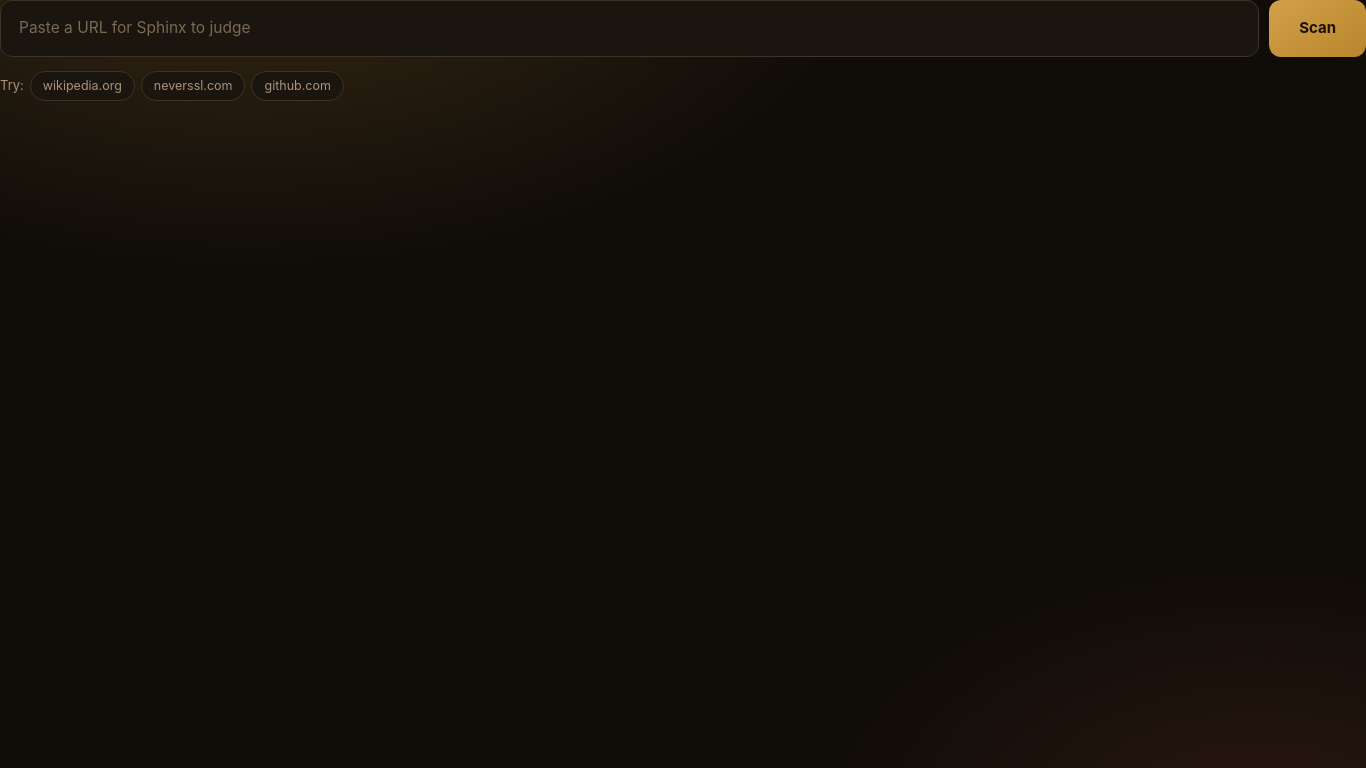
Test: Scanner › withholds a rating for an unreachable host but still shows the URL chip
In the field named "URL to scan": (630, 28) [0,0,1259,57], type "https://gone.example"
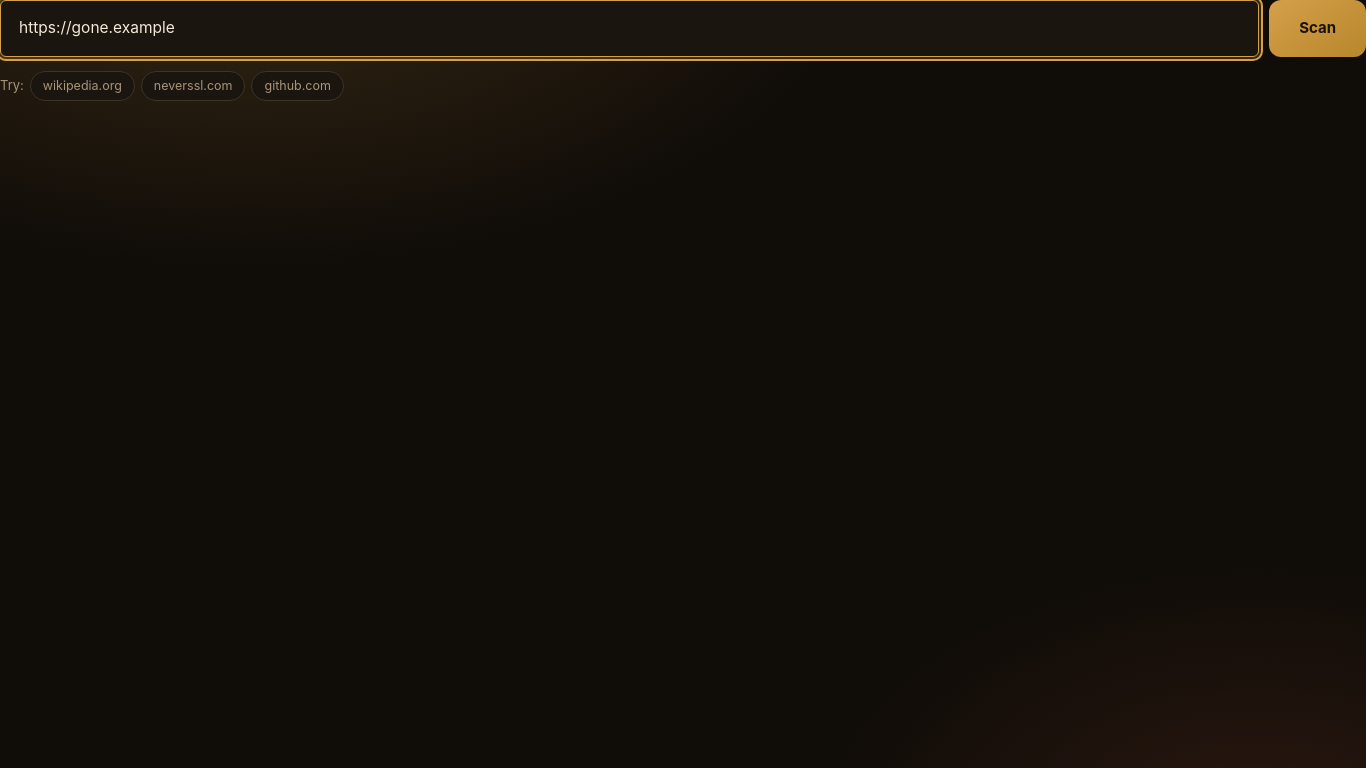
Click the button "Scan": (1318, 28) [1269,0,1365,57]
(page scrolled)
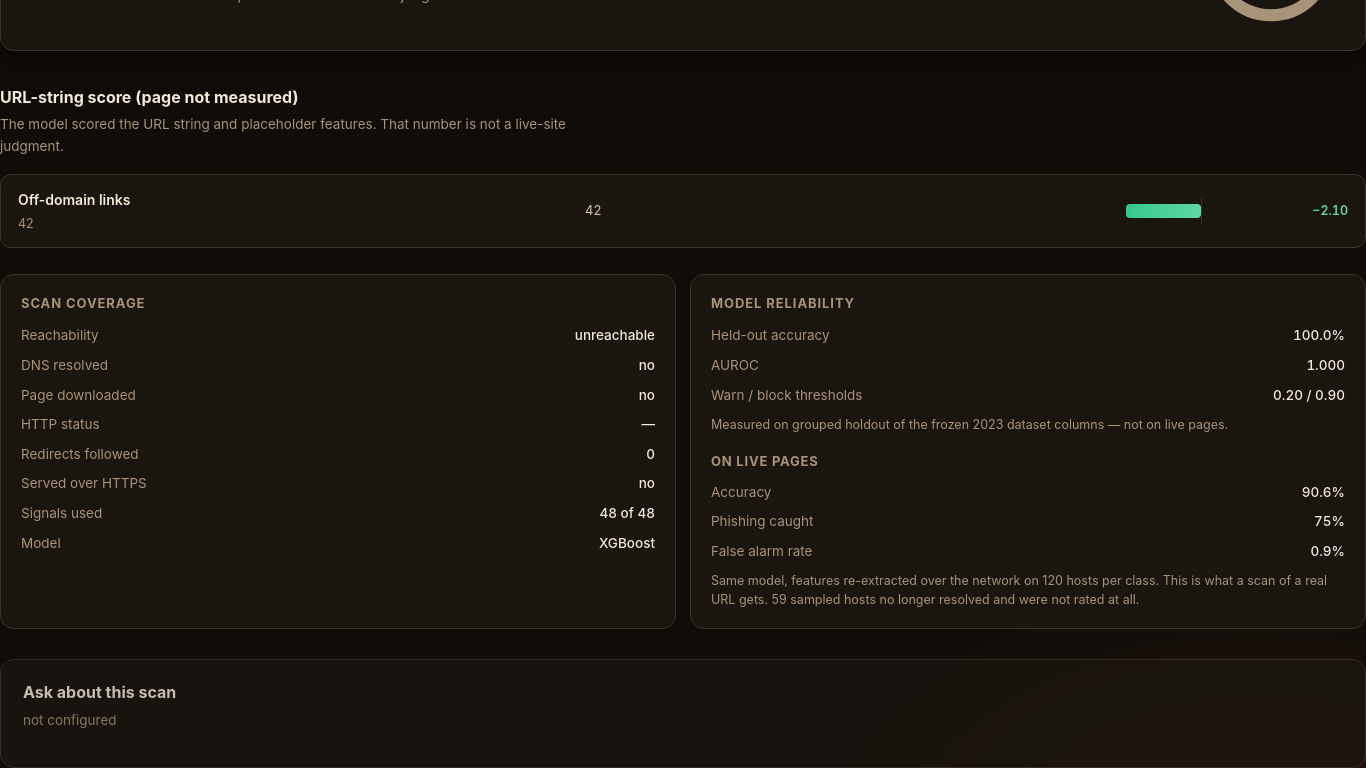
expect the heading "URL-string score (page not measured)" is shown: met, box [0,87,298,107]
